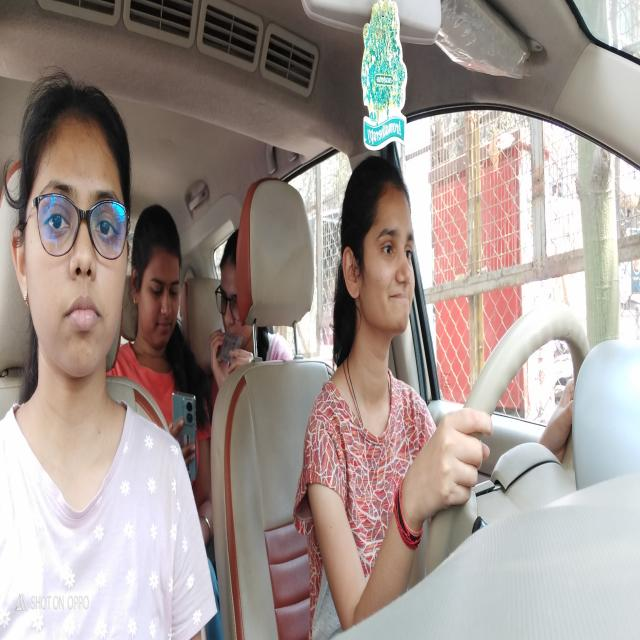person: (25, 95, 130, 372), (340, 174, 416, 336), (135, 211, 183, 350), (219, 238, 253, 342)
